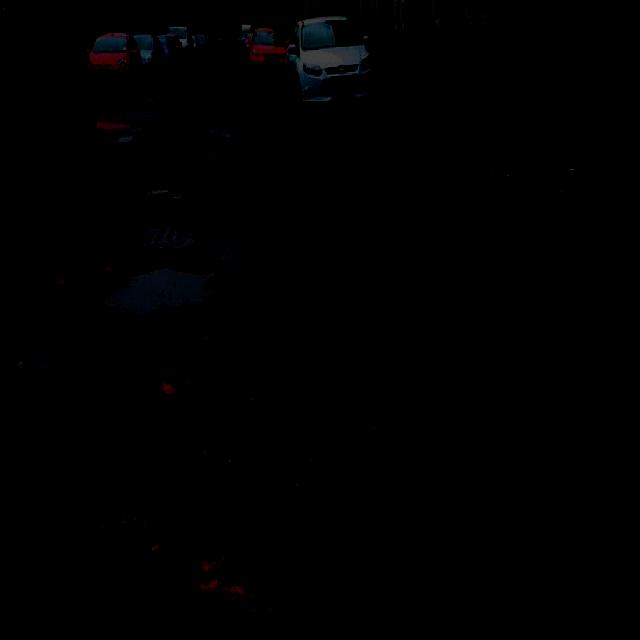Pothole: (13, 356, 560, 640), (379, 304, 640, 640), (4, 247, 229, 336), (25, 102, 217, 206)
